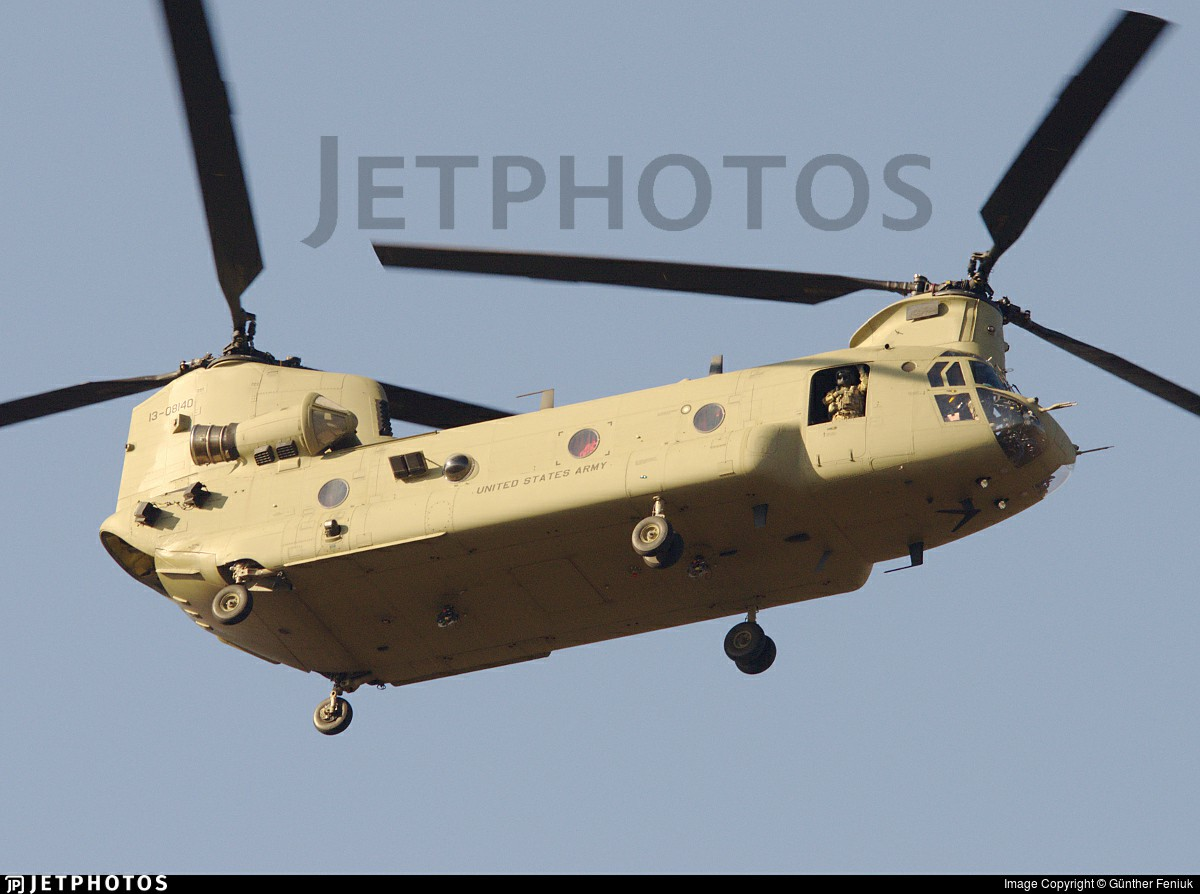chinook: (27, 55, 1159, 731)
